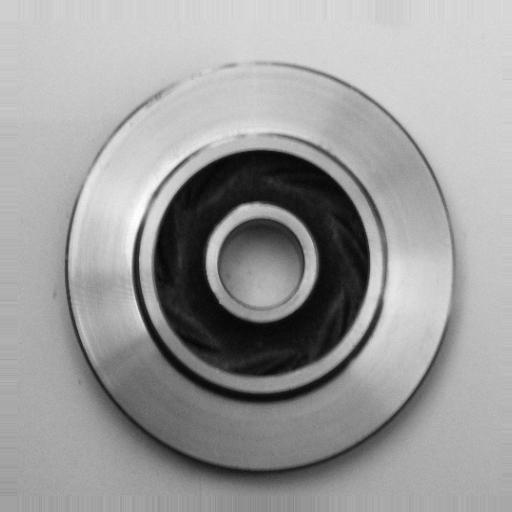scratch: (130, 50, 269, 100), (185, 122, 277, 159)
unpolished_casting: (64, 56, 464, 475)
